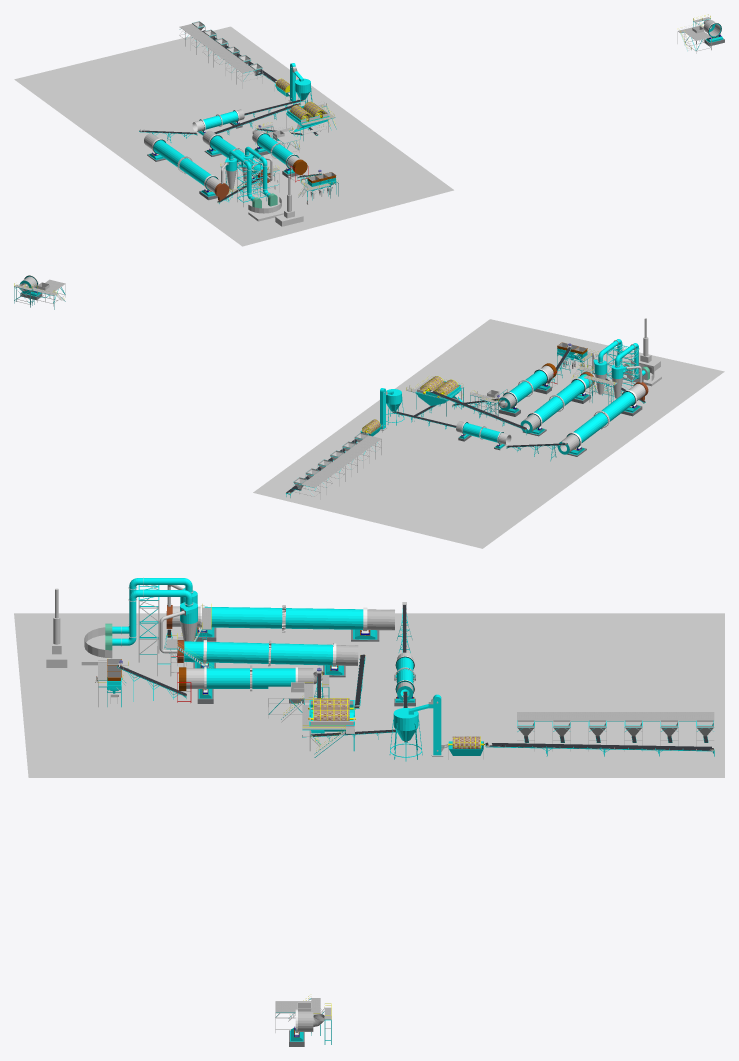
Rendered from dacbiet(test).glb.
3 views of the same model, one above another, from view 1: azimuth 30°, elevation 25°; view 2: azimuth 150°, elevation 25°; view 3: azimuth 270°, elevation 25° (orthographic). The views are drawn at different scales.
Visible parts, largest first — view 1: _(Loose Entity), G-Object.032, G-Object.008, G-Object.034, G-Object.007, _G-Object.005 (Loose Mesh); view 2: _(Loose Entity), G-Object.032, G-Object.008, G-Object.034, G-Object.007, _G-Object.005 (Loose Mesh); view 3: _(Loose Entity), G-Object.032, G-Object.034, G-Object.008, _C-Group#1 (Loose Mesh), G-Object.007, _G-Object.005 (Loose Mesh).
Part boxes in pixels (<box>): _(Loose Entity): <box>14,14,724,246</box>; G-Object.032: <box>144,133,229,200</box>; G-Object.008: <box>179,21,262,88</box>; G-Object.034: <box>202,130,275,191</box>; G-Object.007: <box>192,109,244,135</box>; _G-Object.005 (Loose Mesh): <box>298,172,338,200</box>; _(Loose Entity): <box>14,275,724,548</box>; G-Object.032: <box>557,381,648,456</box>; G-Object.008: <box>293,432,381,499</box>; G-Object.034: <box>520,371,594,436</box>; G-Object.007: <box>456,421,511,450</box>; _G-Object.005 (Loose Mesh): <box>557,342,598,372</box>; _(Loose Entity): <box>14,577,724,1046</box>; G-Object.032: <box>166,605,394,641</box>; G-Object.034: <box>170,640,358,677</box>; G-Object.008: <box>517,712,714,751</box>; _C-Group#1 (Loose Mesh): <box>485,742,714,756</box>; G-Object.007: <box>394,652,415,706</box>; _G-Object.005 (Loose Mesh): <box>98,659,128,707</box>.
Bounding box in the file's own units: 225 × 17.87 × 156.
70 materials, 14 textured.
